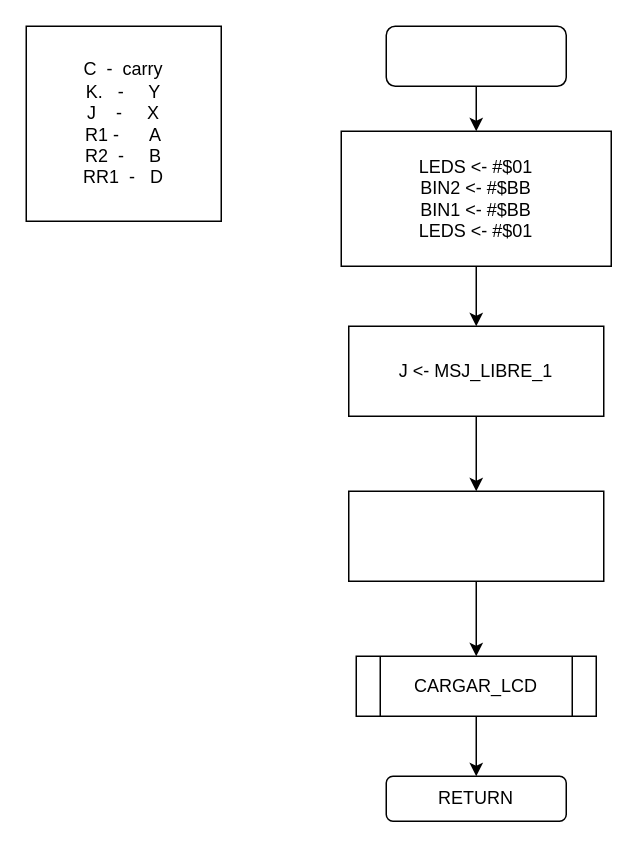
This 638x848 diagram has some shape labels left out. Each missing label, with the centre of its shape:
"K <- MSJ_LIBRE_2" belongs at (x=475, y=535).
"LIBRE" belongs at (x=475, y=55).
